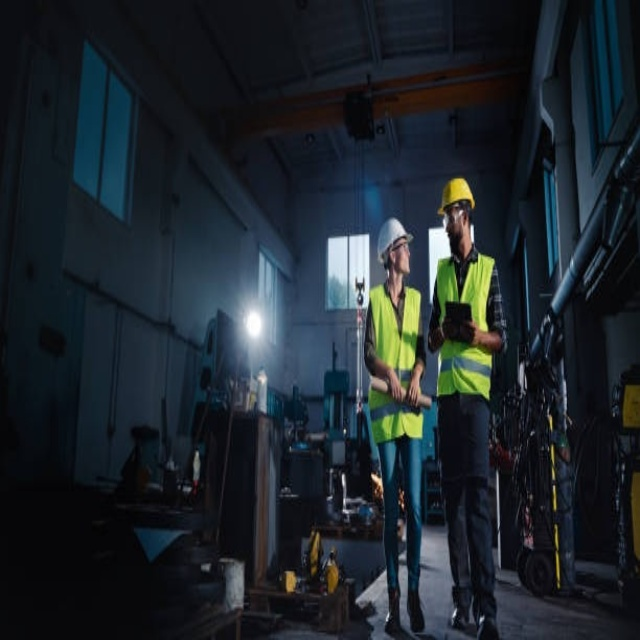Gafas: (441, 203, 465, 223), (389, 236, 412, 251)
Sin_guantes: (407, 367, 425, 409), (386, 365, 404, 404)
